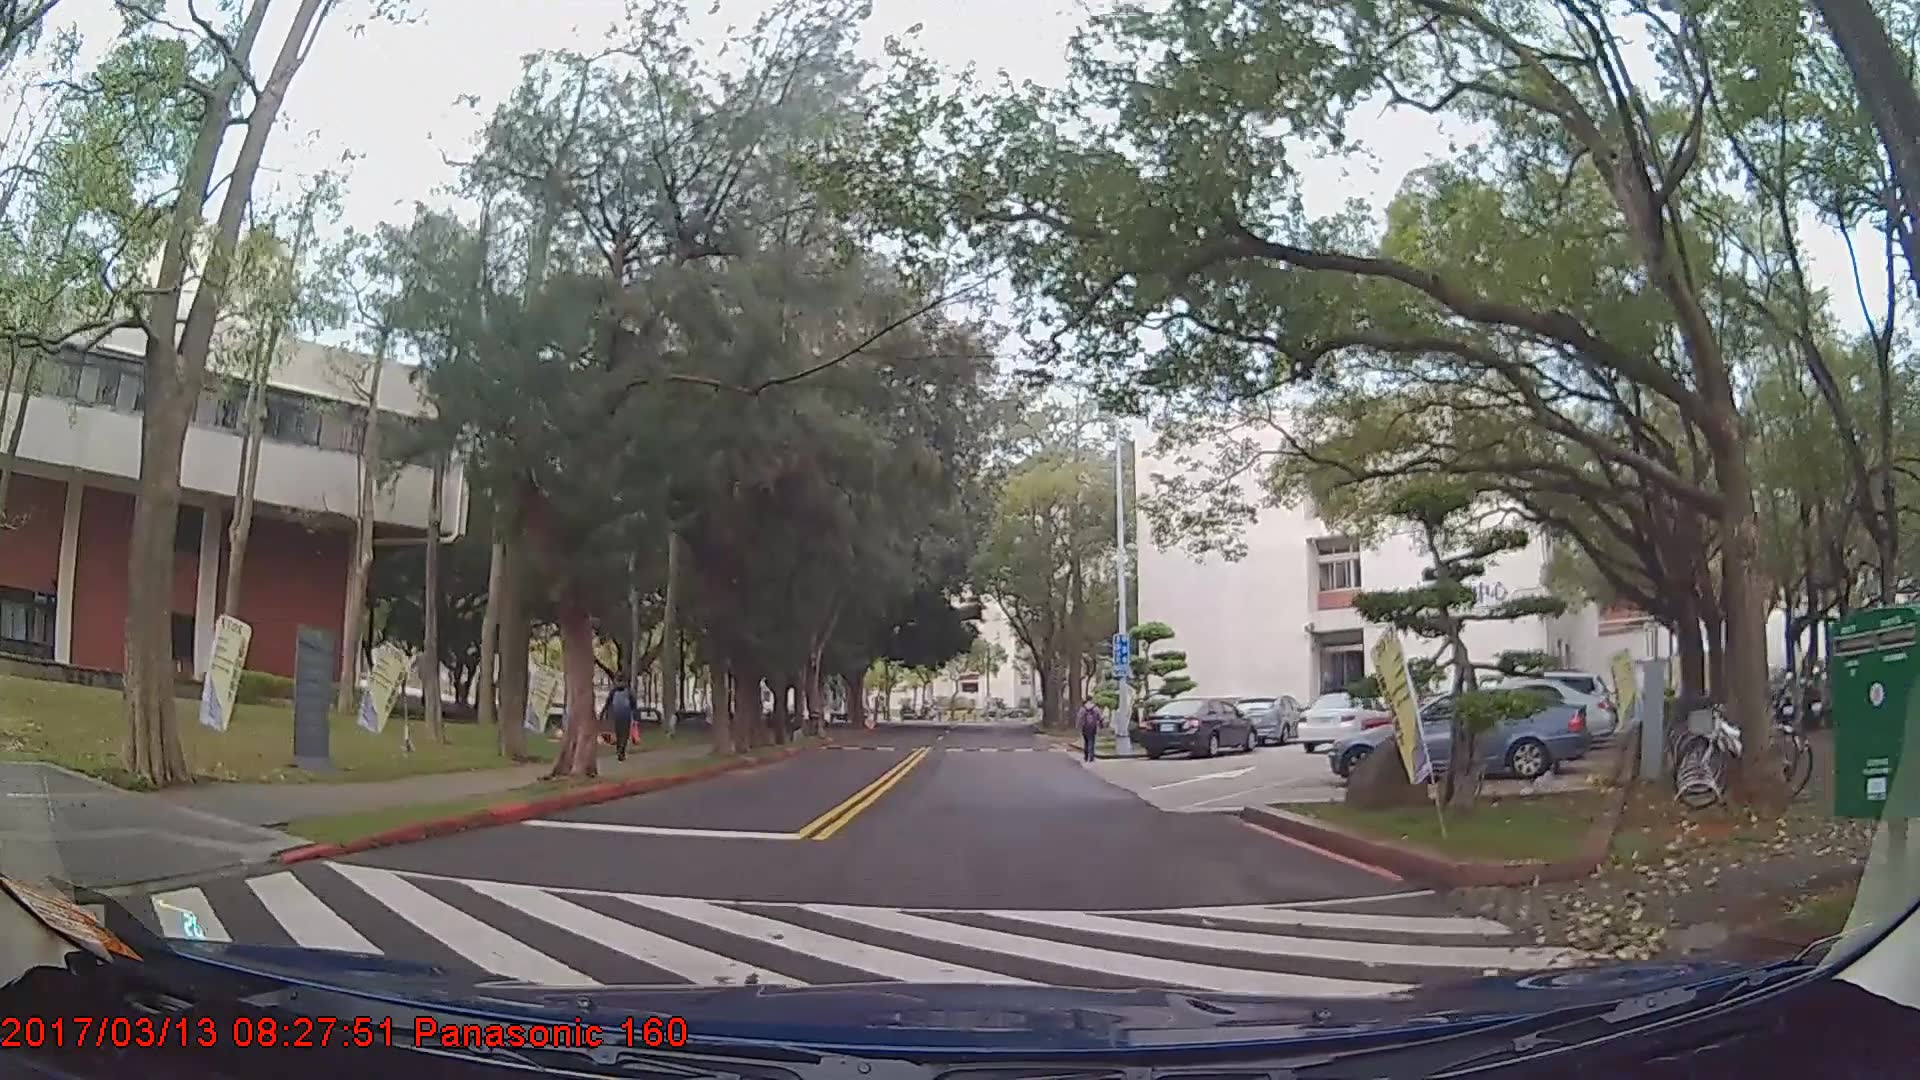pedestrian: (604, 672, 640, 761), (1076, 694, 1105, 764)
vehicle: (1329, 686, 1589, 788), (1437, 676, 1615, 747), (1135, 694, 1259, 757), (1299, 688, 1389, 751), (1232, 695, 1314, 746)
